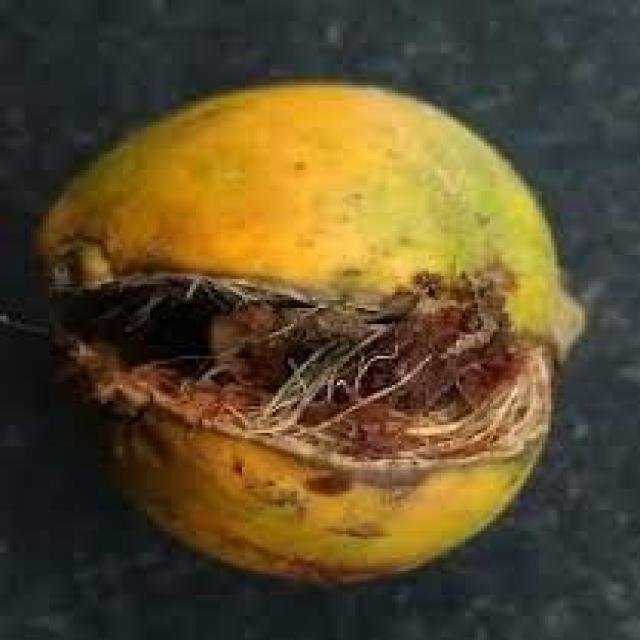damaged: (37, 88, 582, 579)
